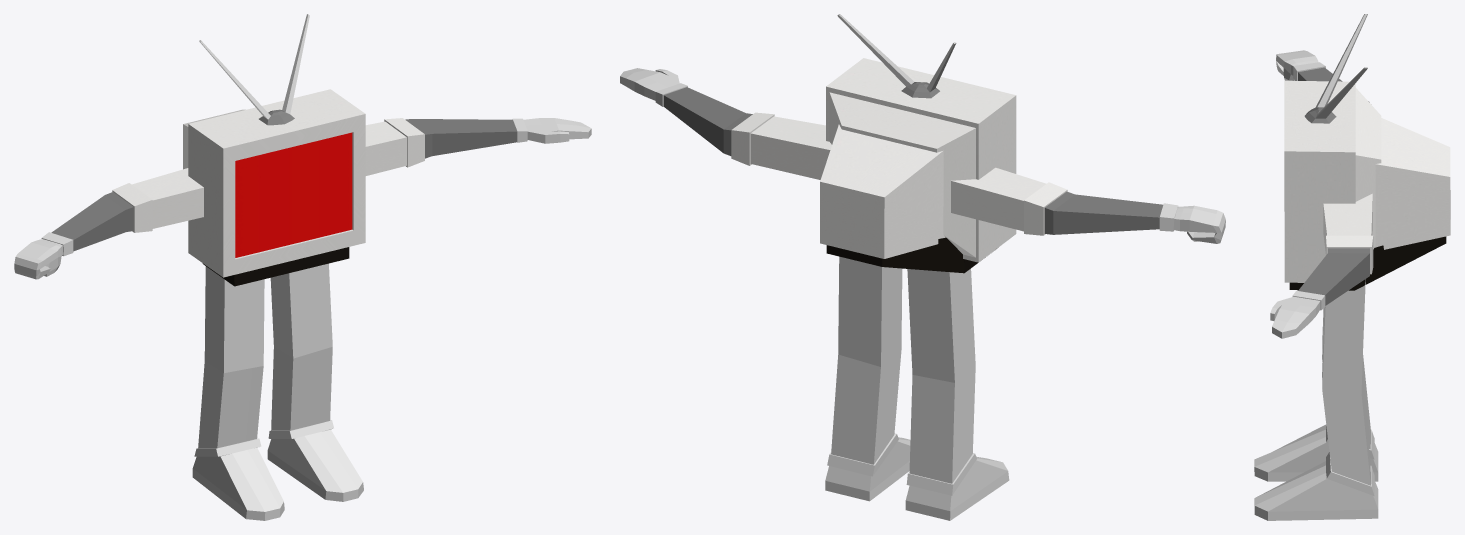
The model's file is OldComputerMan.fbx.
3 renders of one model, left to right at view 1: azimuth 30°, elevation 25°; view 2: azimuth 150°, elevation 25°; view 3: azimuth 270°, elevation 25°, orthographic. The views are drawn at different scales.
Parts seen in each view (by area): view 1: Cube.007, Cube.003, Cube.005, Cube.009, Cube.004, Cube.010; view 2: Cube.007, Cube.003, Cube.009, Cube.004, Cube.010; view 3: Cube.003, Cube.007, Cube.004, Cube.009, Cube.010.
Part boxes in pixels (left/top/right/bottom): Cube.007: left=14, top=118, right=591, bottom=520; Cube.003: left=183, top=89, right=365, bottom=286; Cube.005: left=235, top=132, right=352, bottom=257; Cube.009: left=112, top=118, right=424, bottom=232; Cube.004: left=51, top=119, right=517, bottom=251; Cube.010: left=199, top=14, right=309, bottom=125; Cube.007: left=620, top=68, right=1225, bottom=520; Cube.003: left=820, top=58, right=1016, bottom=273; Cube.009: left=731, top=112, right=1067, bottom=235; Cube.004: left=663, top=87, right=1163, bottom=234; Cube.010: left=837, top=14, right=956, bottom=98; Cube.003: left=1284, top=80, right=1450, bottom=290; Cube.007: left=1254, top=50, right=1378, bottom=520; Cube.004: left=1298, top=67, right=1369, bottom=305; Cube.009: left=1323, top=104, right=1373, bottom=274; Cube.010: left=1304, top=14, right=1367, bottom=123.
Bounding box in the file's own units: 1430 × 1066 × 421.
